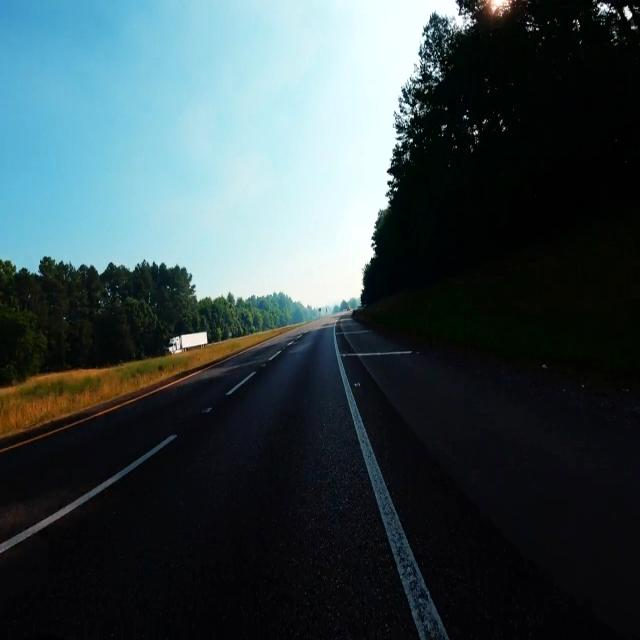lane: (334, 327, 449, 640), (0, 338, 272, 454), (0, 436, 176, 552), (225, 372, 255, 394), (274, 324, 300, 342), (301, 320, 330, 333)
road: (0, 324, 417, 637), (343, 353, 640, 636)
